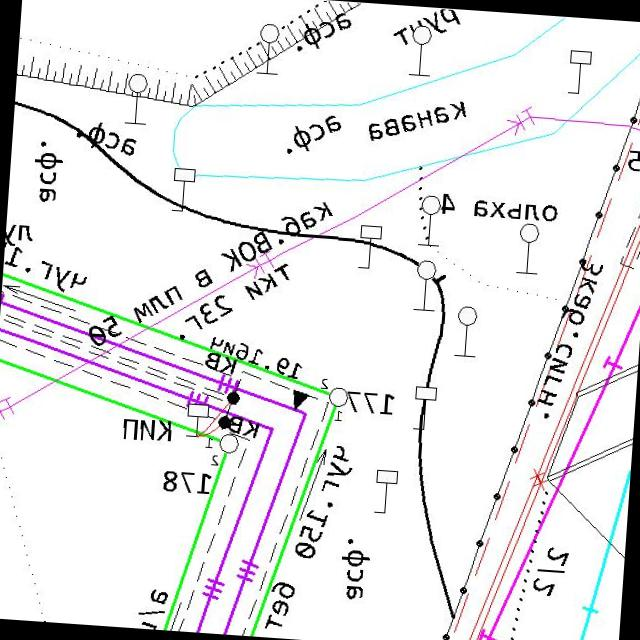asphalt: (294, 7, 356, 58), (282, 109, 344, 160), (28, 138, 68, 206), (72, 118, 139, 158), (336, 535, 373, 604)
mark: (289, 388, 310, 412)
sing: (253, 21, 284, 78), (514, 220, 544, 278), (410, 257, 440, 315), (122, 70, 152, 127), (407, 22, 436, 80), (451, 302, 480, 360), (415, 192, 445, 248), (409, 383, 440, 432), (168, 165, 198, 215), (354, 222, 384, 272), (564, 48, 594, 97), (371, 467, 400, 515), (183, 401, 210, 438)
well: (326, 384, 350, 409), (217, 431, 240, 456)
